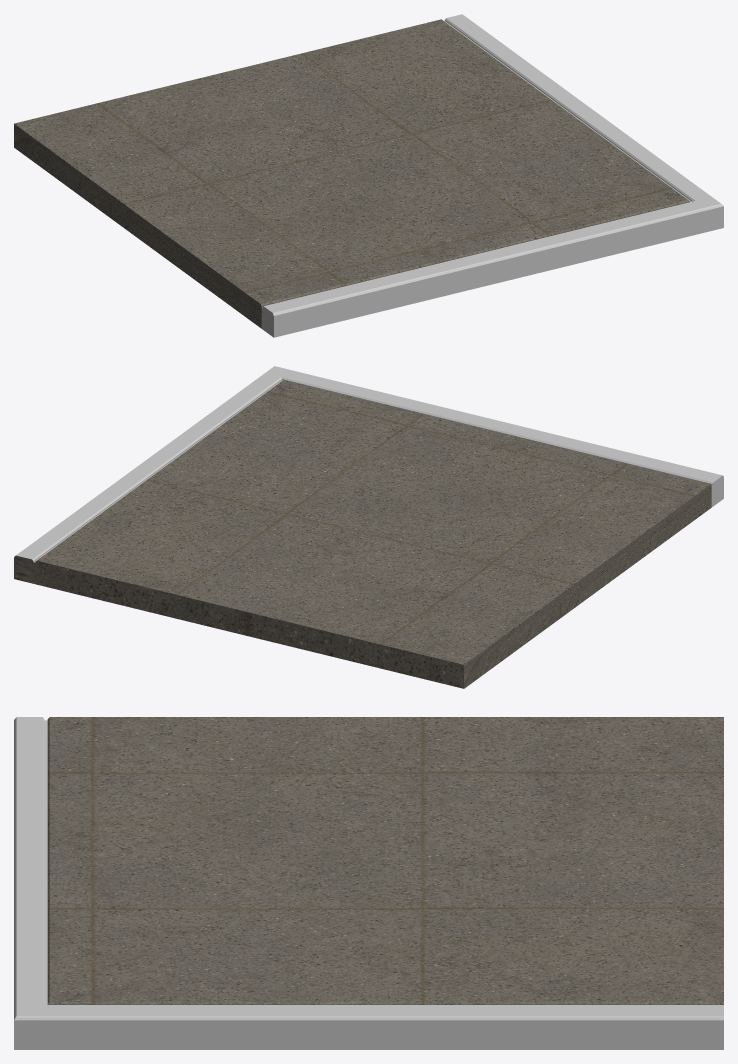
Rendered from Pavement_Curved_00.fbx.
3 views of the same model, one above another, from view 1: azimuth 30°, elevation 25°; view 2: azimuth 150°, elevation 25°; view 3: azimuth 270°, elevation 25° (orthographic). The views are drawn at different scales.
Visible parts, largest first — view 1: Street_Test.001; view 2: Street_Test.001; view 3: Street_Test.001.
Part boxes in pixels (x1,y1,x2,y2): Street_Test.001: (14, 14, 723, 337); Street_Test.001: (14, 366, 723, 688); Street_Test.001: (14, 717, 723, 1049).
Size of the model in its own units: 4.2 by 4.2 by 0.214.
